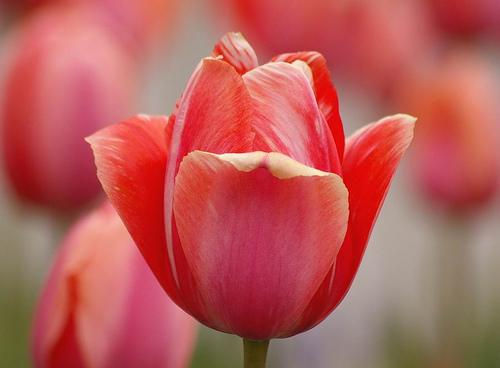tulip: (85, 36, 412, 335)
